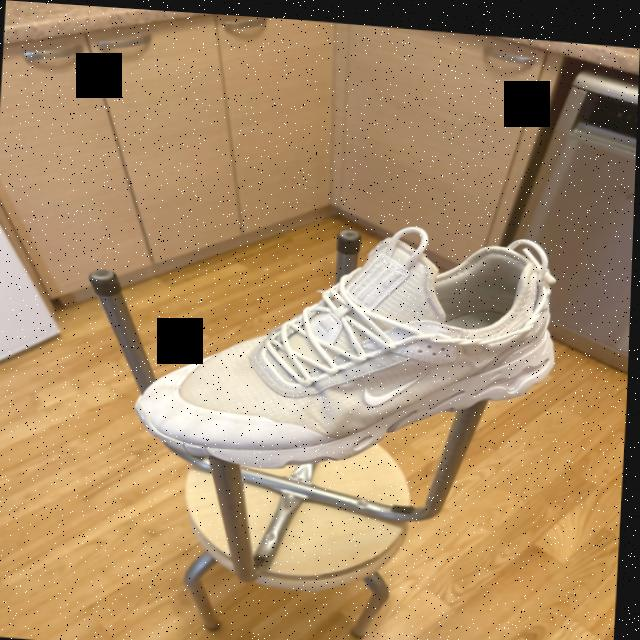shoes: (134, 205, 566, 485)
